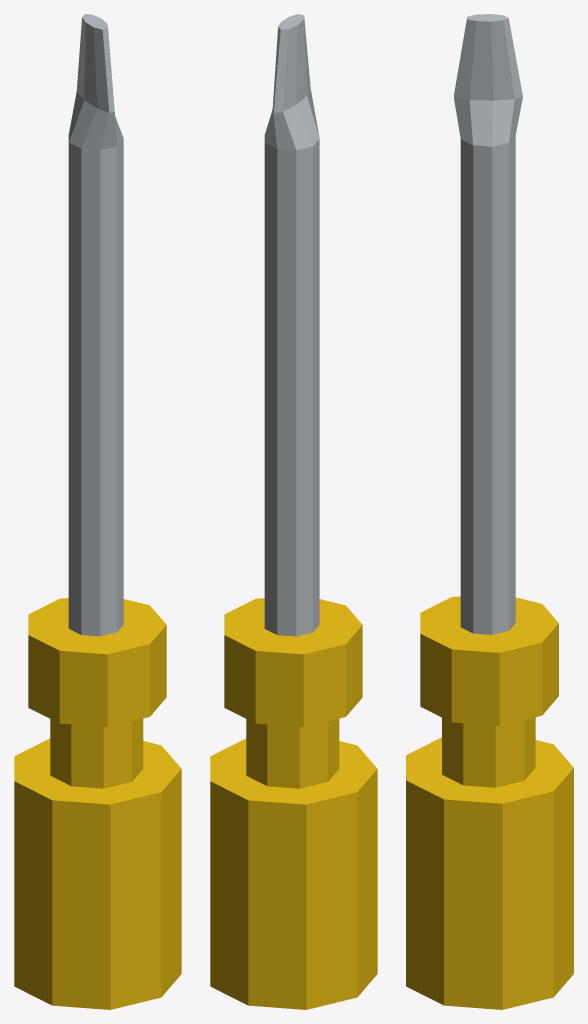
The model's file is GGJ_Screwdriver.fbx.
3 views of the same model, side by side, from view 1: azimuth 30°, elevation 25°; view 2: azimuth 150°, elevation 25°; view 3: azimuth 270°, elevation 25° (orthographic).
Visible parts, largest first — view 1: Screwdriver; view 2: Screwdriver; view 3: Screwdriver.
Part boxes in pixels (x1,y1,x2,y2): Screwdriver: [14, 14, 181, 1009]; Screwdriver: [210, 14, 377, 1009]; Screwdriver: [406, 14, 573, 1009].
Bounding box in the file's own units: 2.51 × 15.55 × 2.47.
Materials: 1 (1 with a texture image).
